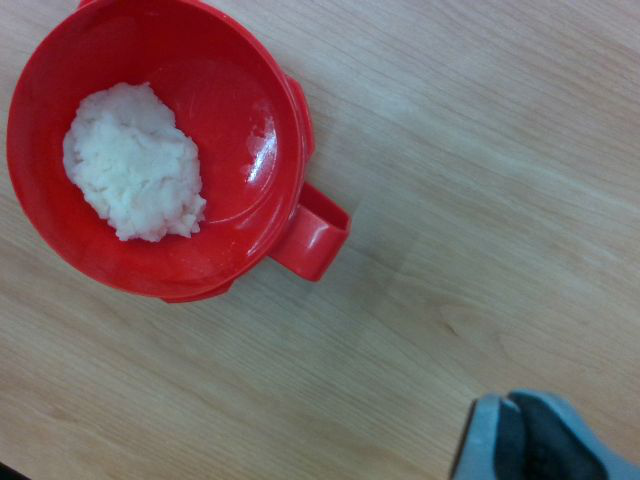mashed_potato: (63, 83, 206, 244)
